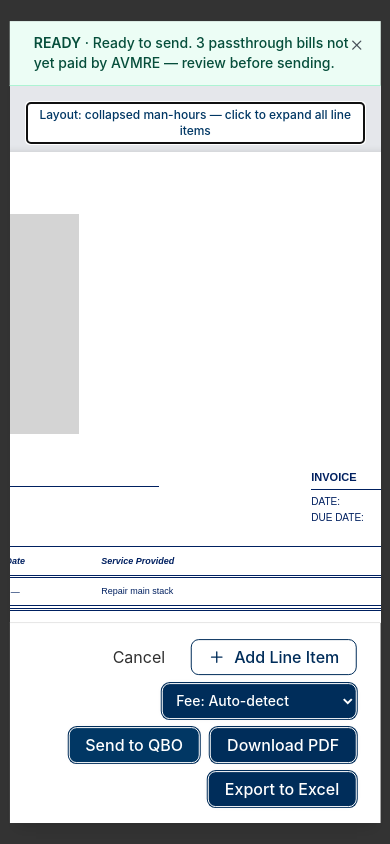
Test: InvoicePreviewModal — pre-send review › shows one reimbursement note per payee, even when that payee has multiple lines
Click the button "Send to QBO". click: (134, 745)
box: [68,727,200,763]
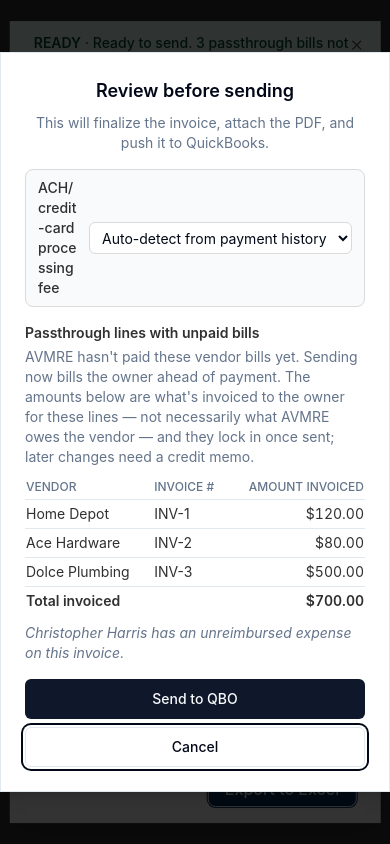
Expected: the text "unreimbursed expense" is shown once, [25,623,365,663]
